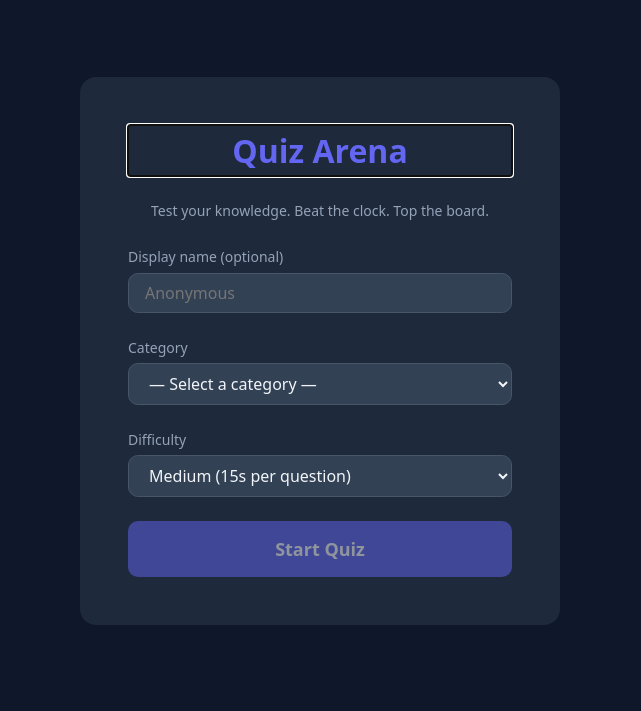
Test: Quiz flow › shows first question after start
This screenshot has width=641, height=711.
Select "General Knowledge" in the dropdown labelled "Category" at (320, 384), box top-left (128, 363), bottom-right (512, 405)
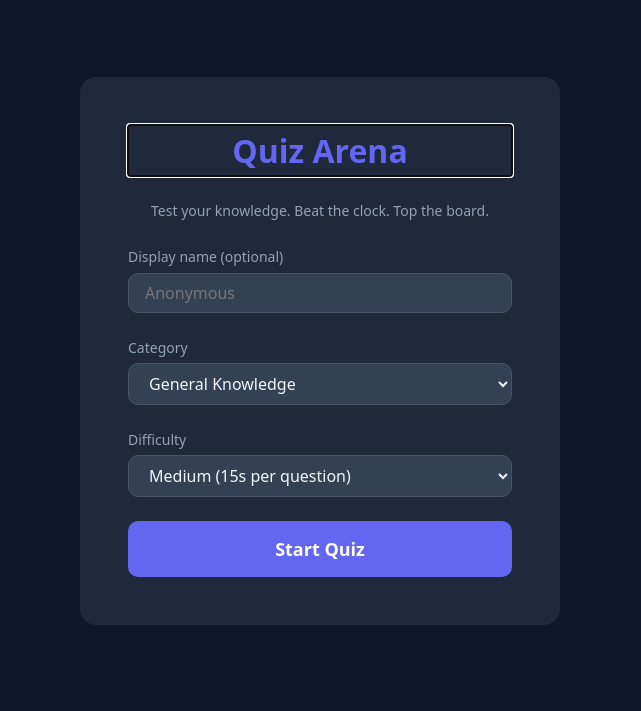
Click the button "Start Quiz".
click(320, 549)  # box top-left (128, 521), bottom-right (512, 577)
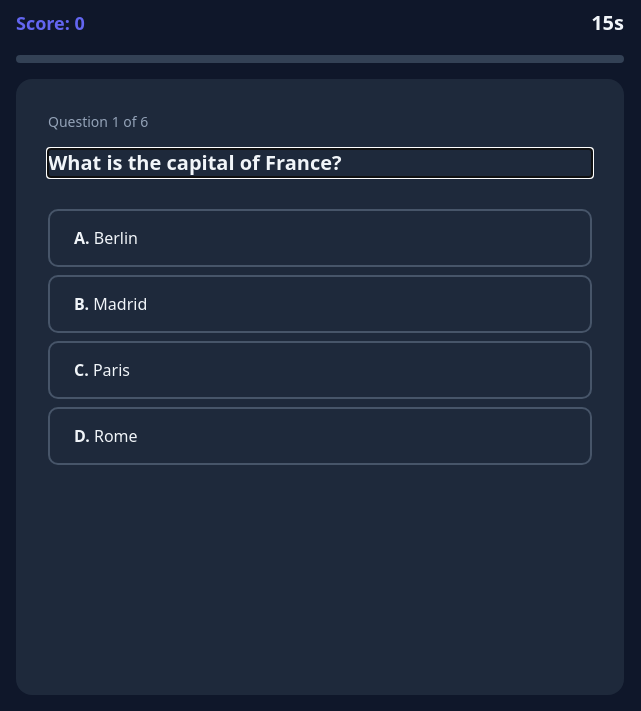
expect the text "Question 1 of 6" is shown: met, box top-left (48, 112), bottom-right (148, 131)
